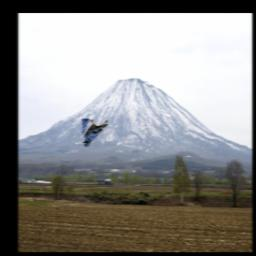Crow: (82, 119, 108, 147)
